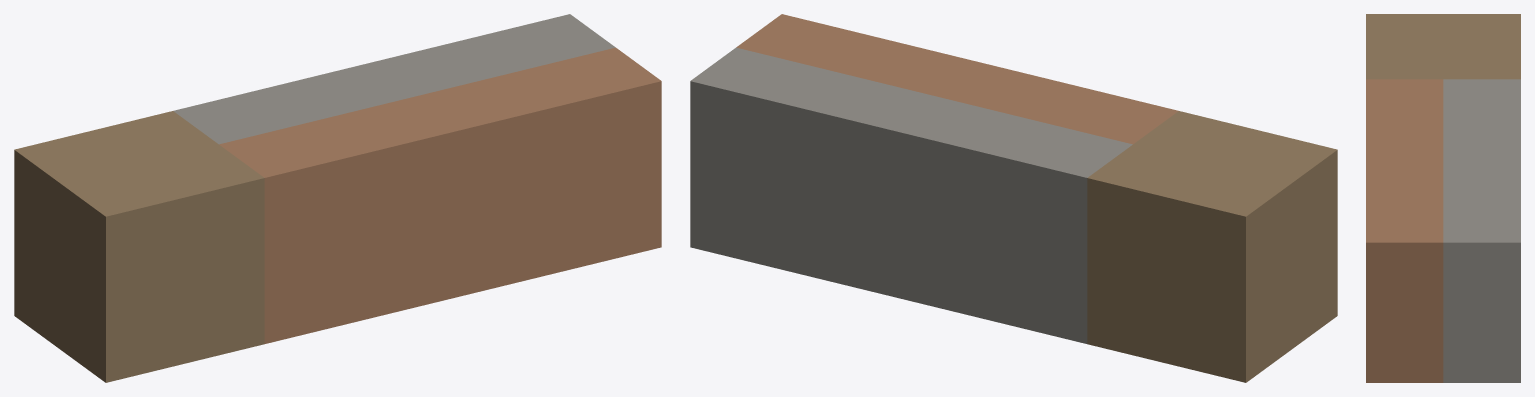
Rendered from cuchillo_cocina_oxidado_01.glb.
The picture shows the model from 3 angles, left to right: view 1: azimuth 30°, elevation 25°; view 2: azimuth 150°, elevation 25°; view 3: azimuth 270°, elevation 25°; orthographic projection. The views are drawn at different scales.
Parts seen in each view (by area): view 1: cuchillo_cocina_oxidado; view 2: cuchillo_cocina_oxidado; view 3: cuchillo_cocina_oxidado.
Boxes of the visible parts, x1,y1,x2,y2 form: cuchillo_cocina_oxidado: [14, 14, 661, 382]; cuchillo_cocina_oxidado: [690, 14, 1337, 382]; cuchillo_cocina_oxidado: [1366, 14, 1520, 382].
Size of the model in its own units: 0.7 by 0.2 by 0.2.
